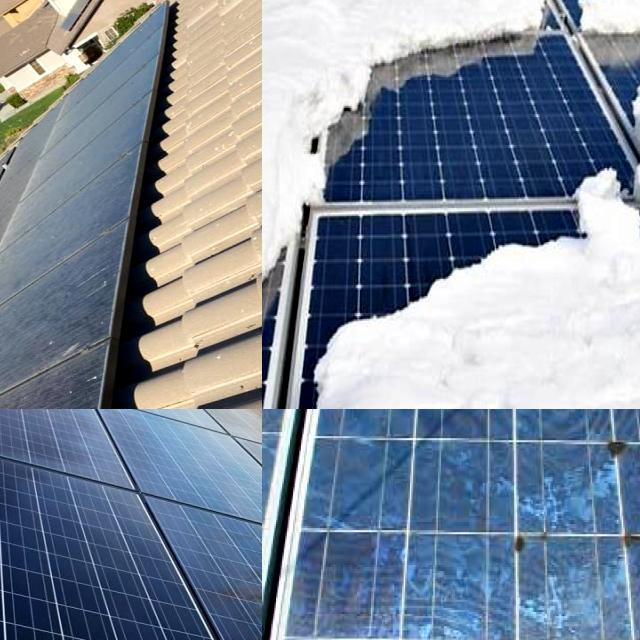crack: (0, 425, 259, 640), (87, 409, 262, 553), (0, 409, 172, 499), (0, 409, 174, 486), (0, 409, 118, 476), (0, 409, 96, 459)
dust: (29, 72, 132, 226), (0, 237, 90, 356), (0, 190, 41, 318)
panel: (424, 196, 570, 310), (290, 278, 397, 409), (311, 66, 373, 220), (573, 171, 640, 293), (487, 0, 559, 84), (262, 202, 333, 287), (352, 18, 466, 66), (262, 291, 303, 409), (509, 0, 640, 29), (360, 0, 491, 22), (618, 40, 640, 162), (262, 0, 335, 20)
shadow: (485, 504, 563, 568), (609, 517, 640, 595), (597, 419, 640, 473)
